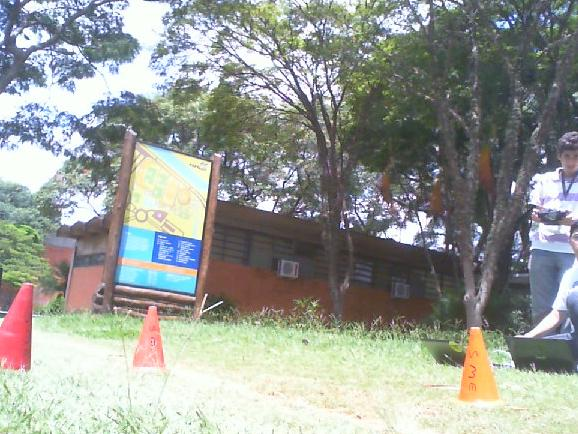0 cone: (455, 327, 499, 406), (0, 284, 35, 372), (134, 307, 167, 369)
